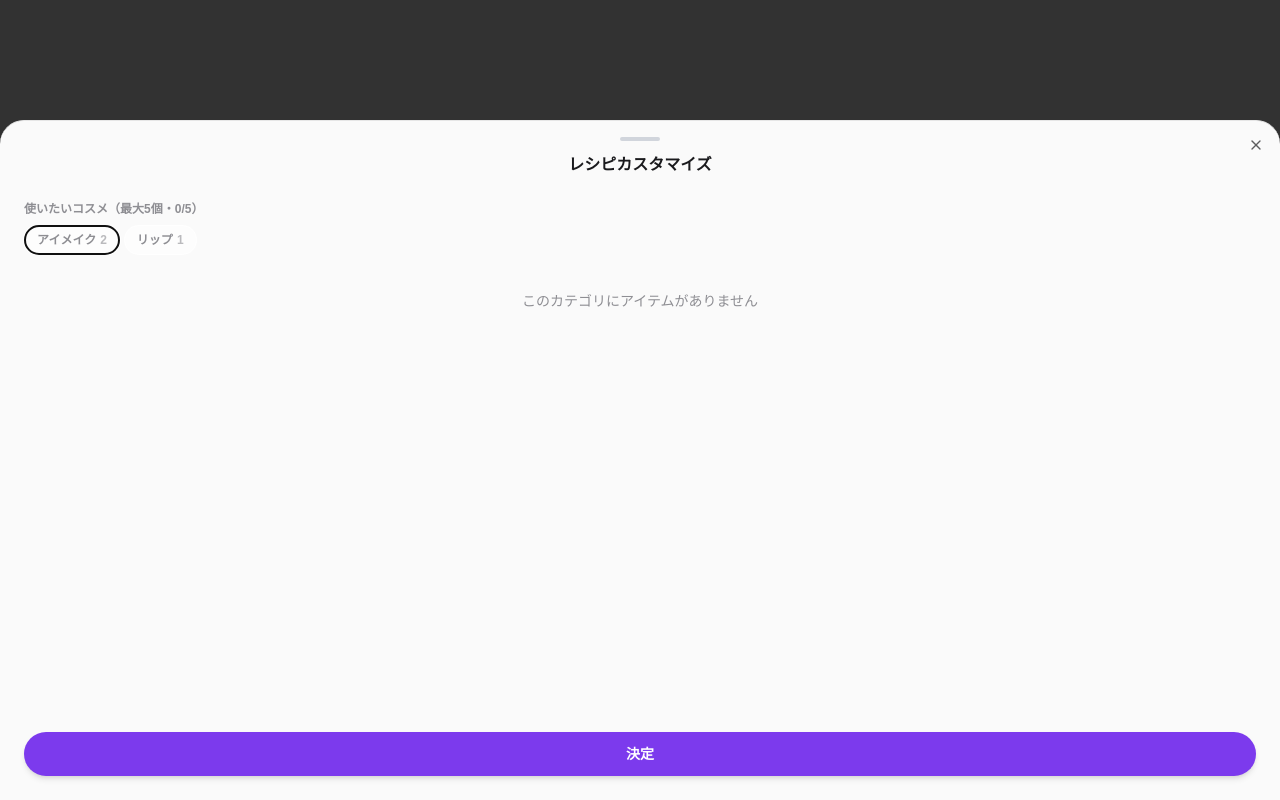
Test: CosmePickerSheet › shows items in selected category
The width and height of the screenshot is (1280, 800).
Click the button "アイメイク2". click: {"x": 72, "y": 240}
box: [24,225,120,255]
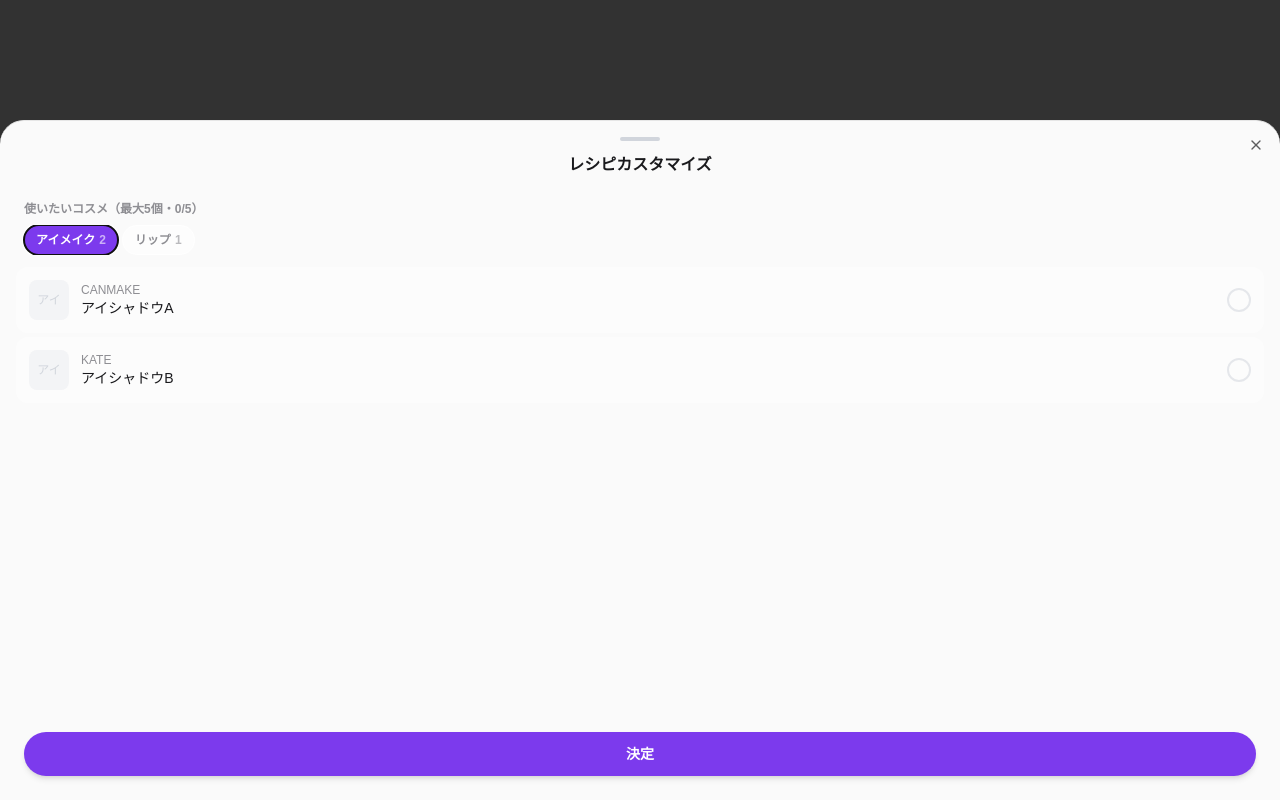
expect the text "アイシャドウA" is shown: met, box [81,300,174,316]
expect the text "アイシャドウB" is shown: met, box [81,370,174,386]
